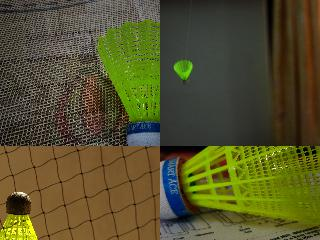shuttlecock: (160, 146, 319, 231), (96, 19, 159, 145), (0, 191, 46, 239), (174, 60, 192, 84)
